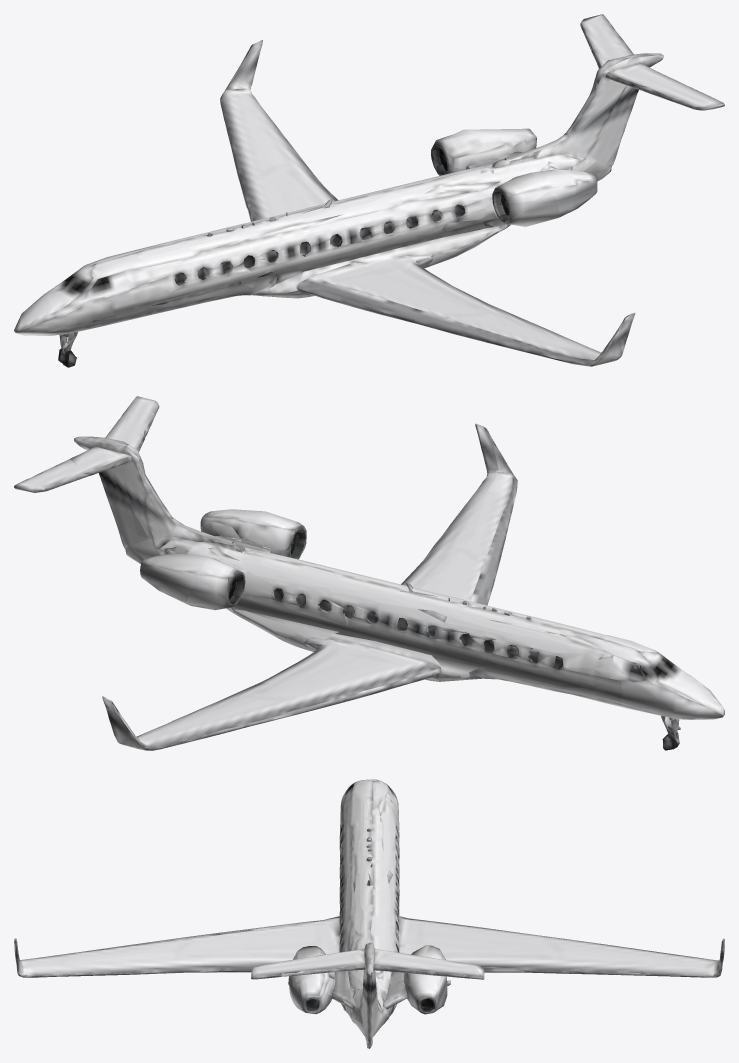
The model's file is jet_heavy.glb.
3 views of the same model, one above another, from view 1: azimuth 30°, elevation 25°; view 2: azimuth 150°, elevation 25°; view 3: azimuth 270°, elevation 25° (orthographic). The views are drawn at different scales.
Parts seen in each view (by area): view 1: LO; view 2: LO; view 3: LO.
Part boxes in pixels (x1,y1,x2,y2): LO: (14, 14, 724, 367); LO: (14, 396, 724, 750); LO: (14, 779, 724, 1048).
Bounding box in the file's own units: 30.4 × 7.79 × 30.36.
Materials: 1 (1 with a texture image).
